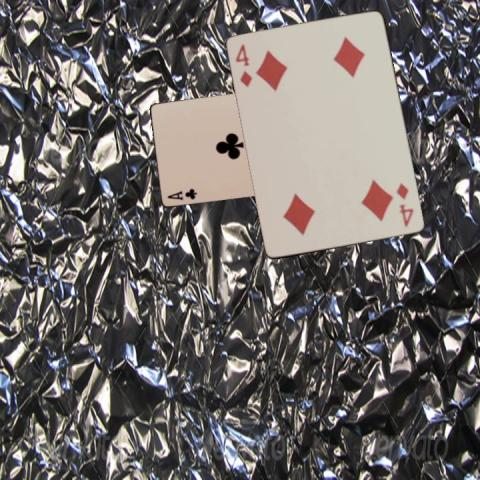4d: (394, 180, 415, 229), (233, 41, 254, 89)
Ac: (165, 186, 198, 201)
